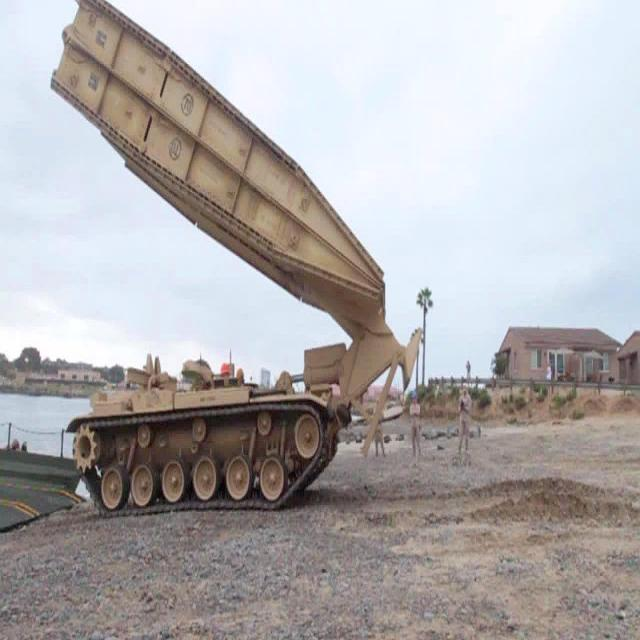MIL_MBT: (70, 381, 351, 530)
